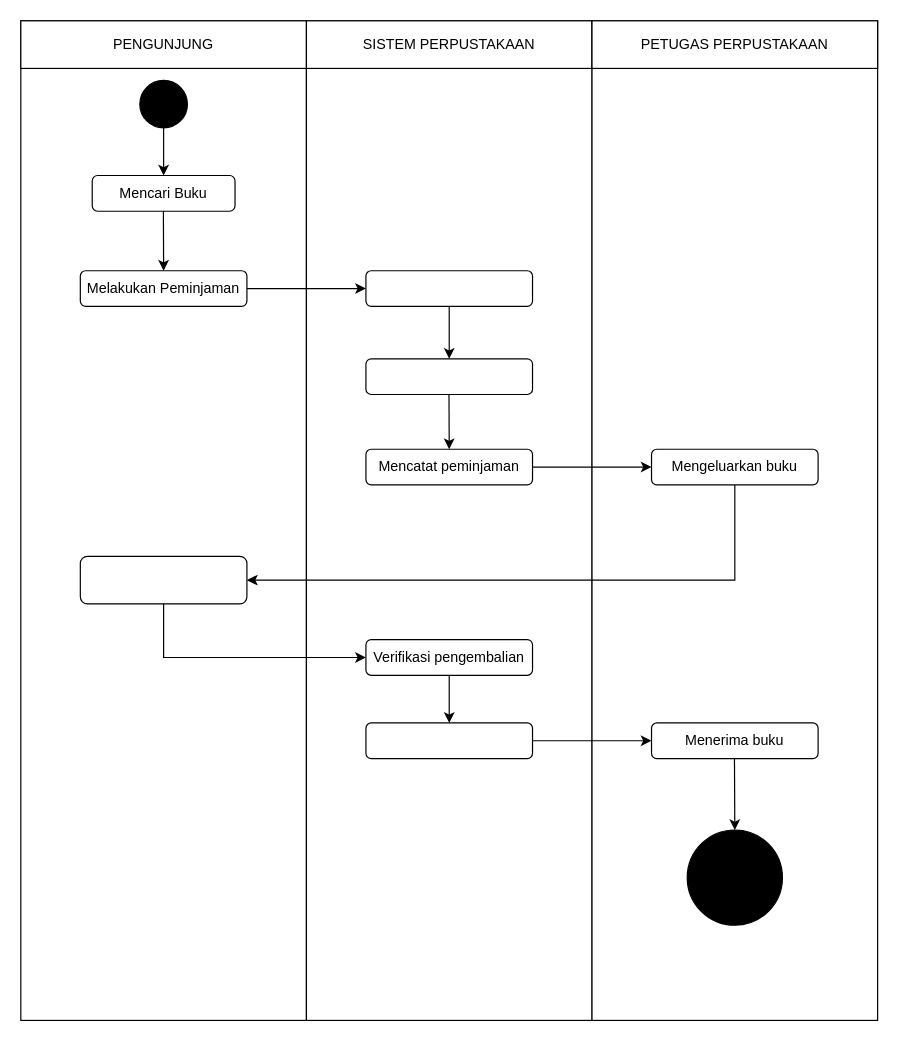
The diagram is 898 pixels wide and 1041 high, and some of its shapes have lost their labels. The shapes that lost their labels are listed below. From the top down, each one's box as (x1, y1, x2, y2) in pixels, then its label:
(365, 270, 533, 306): Menerima Informasi
(365, 358, 533, 394): Verifikasi peminjaman
(79, 555, 247, 604): Melakukan Pengembalian
(365, 722, 533, 759): Perbarui status
